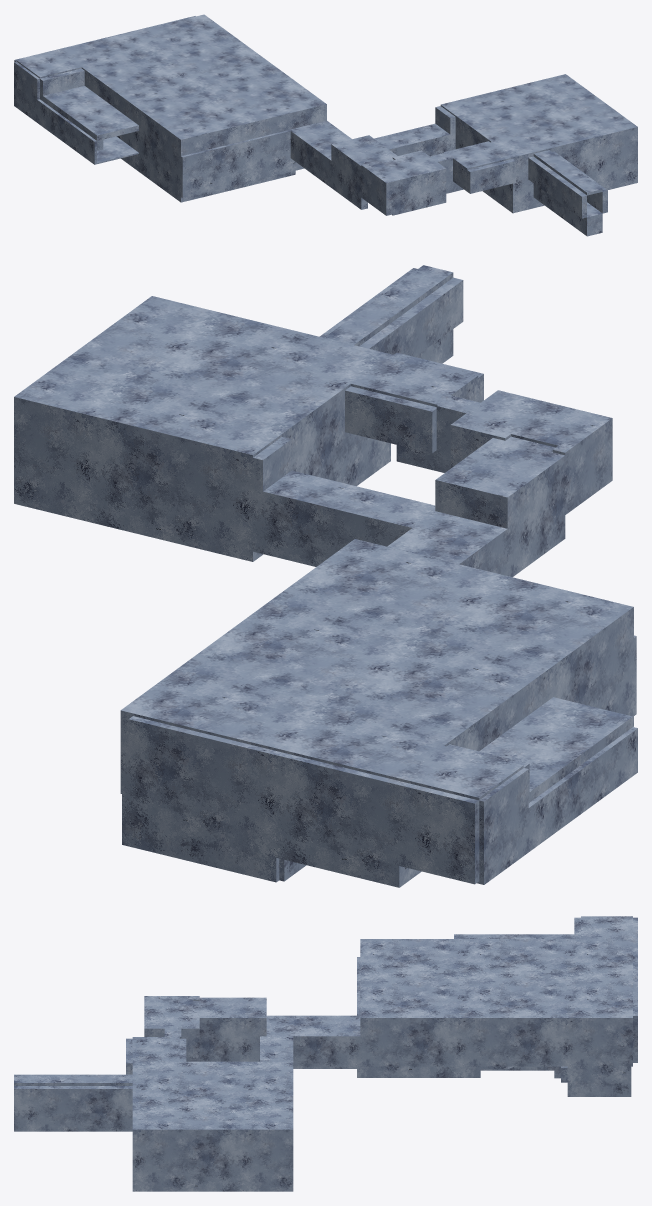
The model's file is encounter_00.glb.
3 renders of one model, top to bottom at view 1: azimuth 30°, elevation 25°; view 2: azimuth 150°, elevation 25°; view 3: azimuth 270°, elevation 25°, orthographic. The views are drawn at different scales.
Parts seen in each view (by area): view 1: entity0_brush149, entity0_brush47, entity0_brush155, entity0_brush135, entity0_brush156, entity0_brush215, entity0_brush39, entity0_brush148, entity0_brush95, entity0_brush147, entity0_brush214, entity0_brush75 (+34 smaller); view 2: entity0_brush149, entity0_brush47, entity0_brush155, entity0_brush153, entity0_brush216, entity0_brush215, entity0_brush156, entity0_brush214, entity0_brush76, entity0_brush102, entity0_brush100, entity0_brush219 (+41 smaller); view 3: entity0_brush47, entity0_brush149, entity0_brush155, entity0_brush151, entity0_brush22, entity0_brush134, entity0_brush150, entity0_brush21, entity0_brush128, entity0_brush194, entity0_brush44, entity0_brush92 (+19 smaller).
Part boxes in pixels (x1,y1,x2,y2): entity0_brush149: (114,57,320,140); entity0_brush47: (440,74,637,158); entity0_brush155: (58,16,253,92); entity0_brush135: (223,128,297,187); entity0_brush156: (126,102,186,196); entity0_brush215: (40,86,138,140); entity0_brush39: (550,129,632,181); entity0_brush148: (181,146,224,198); entity0_brush95: (392,168,444,214); entity0_brush147: (222,107,320,145); entity0_brush214: (14,88,96,163); entity0_brush75: (467,159,515,193); entity0_brush149: (241,542,633,701); entity0_brush47: (14,296,390,457); entity0_brush155: (133,634,507,780); entity0_brush153: (128,716,331,848); entity0_brush216: (328,764,479,884); entity0_brush215: (479,697,632,802); entity0_brush156: (530,609,633,716); entity0_brush214: (479,739,637,882); entity0_brush76: (345,386,436,453); entity0_brush102: (448,441,552,525); entity0_brush100: (459,392,598,447); entity0_brush219: (399,746,523,800); entity0_brush47: (132,1061,293,1130); entity0_brush149: (360,939,507,1014); entity0_brush155: (507,939,632,1014); entity0_brush151: (507,1014,632,1066); entity0_brush22: (132,1131,239,1179); entity0_brush134: (357,1032,507,1066); entity0_brush150: (360,1014,507,1036); entity0_brush21: (240,1131,286,1179); entity0_brush128: (293,1032,356,1066); entity0_brush194: (567,1066,631,1096); entity0_brush44: (64,1086,132,1113); entity0_brush92: (199,1036,259,1061).
Size of the model in its own units: 1224 by 212 by 1492.
1 material, 1 textured.
